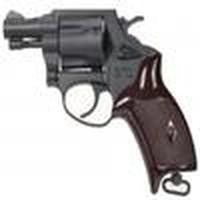gun: (2, 7, 200, 196)
